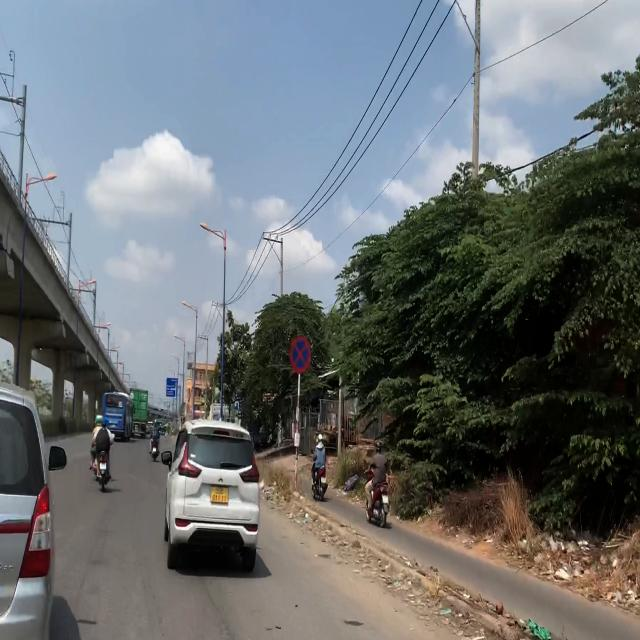Cam dung va do: (288, 334, 312, 374)
